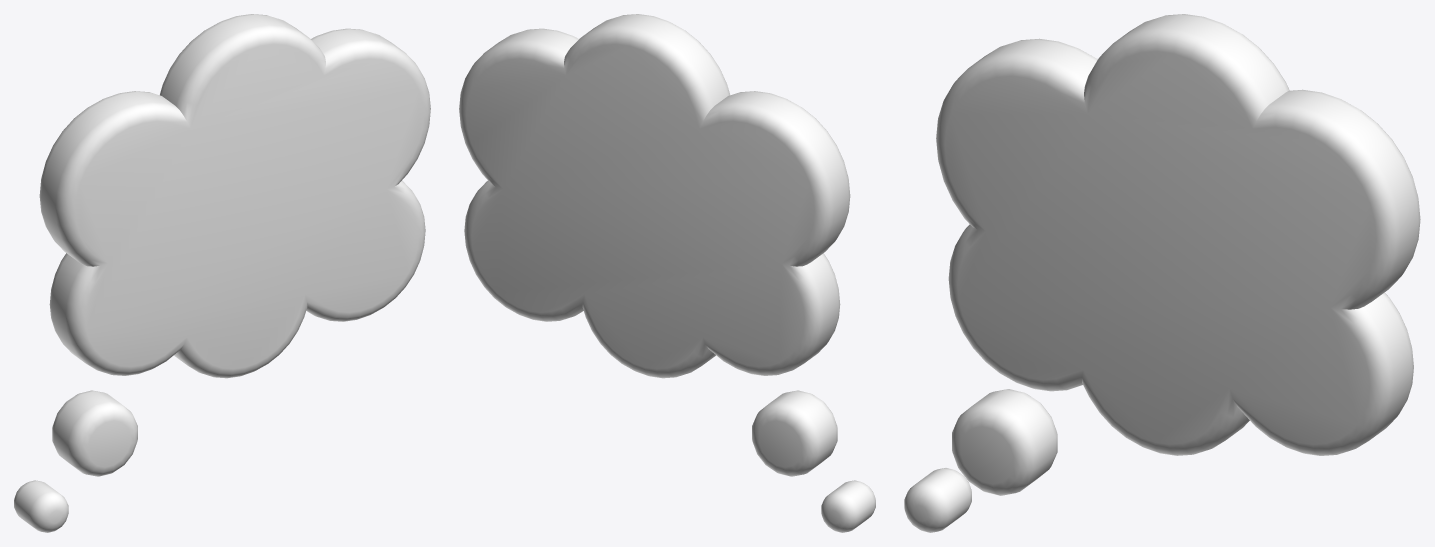
The model's file is thought_balloon.gltf.
3 views of the same model, side by side, from view 1: azimuth 30°, elevation 25°; view 2: azimuth 150°, elevation 25°; view 3: azimuth 330°, elevation 25° (orthographic). The views are drawn at different scales.
Parts seen in each view (by area): view 1: Circle.026; view 2: Circle.026; view 3: Circle.026.
Part boxes in pixels (<box>): Circle.026: <box>14,14,430,532</box>; Circle.026: <box>459,14,875,532</box>; Circle.026: <box>904,14,1420,532</box>.
Bounding box in the file's own units: 1.78 × 1.93 × 0.22.
Materials: 1 (1 with a texture image).
